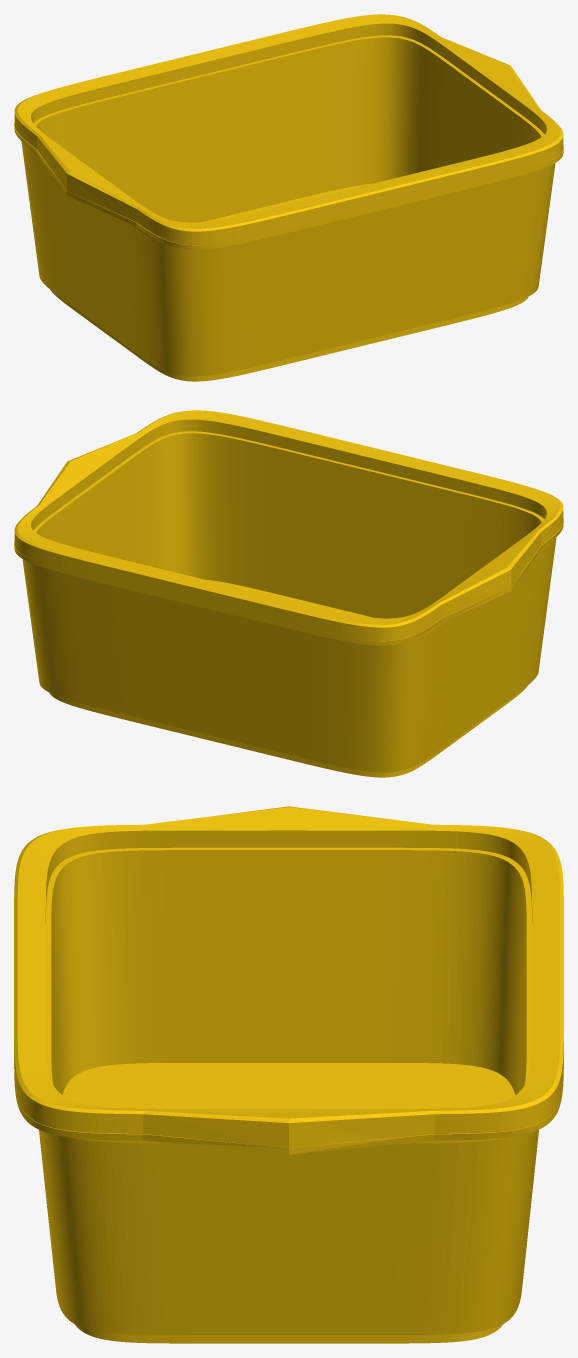
The model's file is spike-box-tub.glb.
3 renders of one model, top to bottom at view 1: azimuth 30°, elevation 25°; view 2: azimuth 150°, elevation 25°; view 3: azimuth 270°, elevation 25°, orthographic. The views are drawn at different scales.
Visible parts, largest first — view 1: spike-box-tub; view 2: spike-box-tub; view 3: spike-box-tub.
Part boxes in pixels (bbox=[...]): spike-box-tub: bbox=[14, 14, 563, 381]; spike-box-tub: bbox=[14, 410, 563, 777]; spike-box-tub: bbox=[14, 806, 563, 1343].
Size of the model in its own units: 0.414 by 0.1522 by 0.303.
